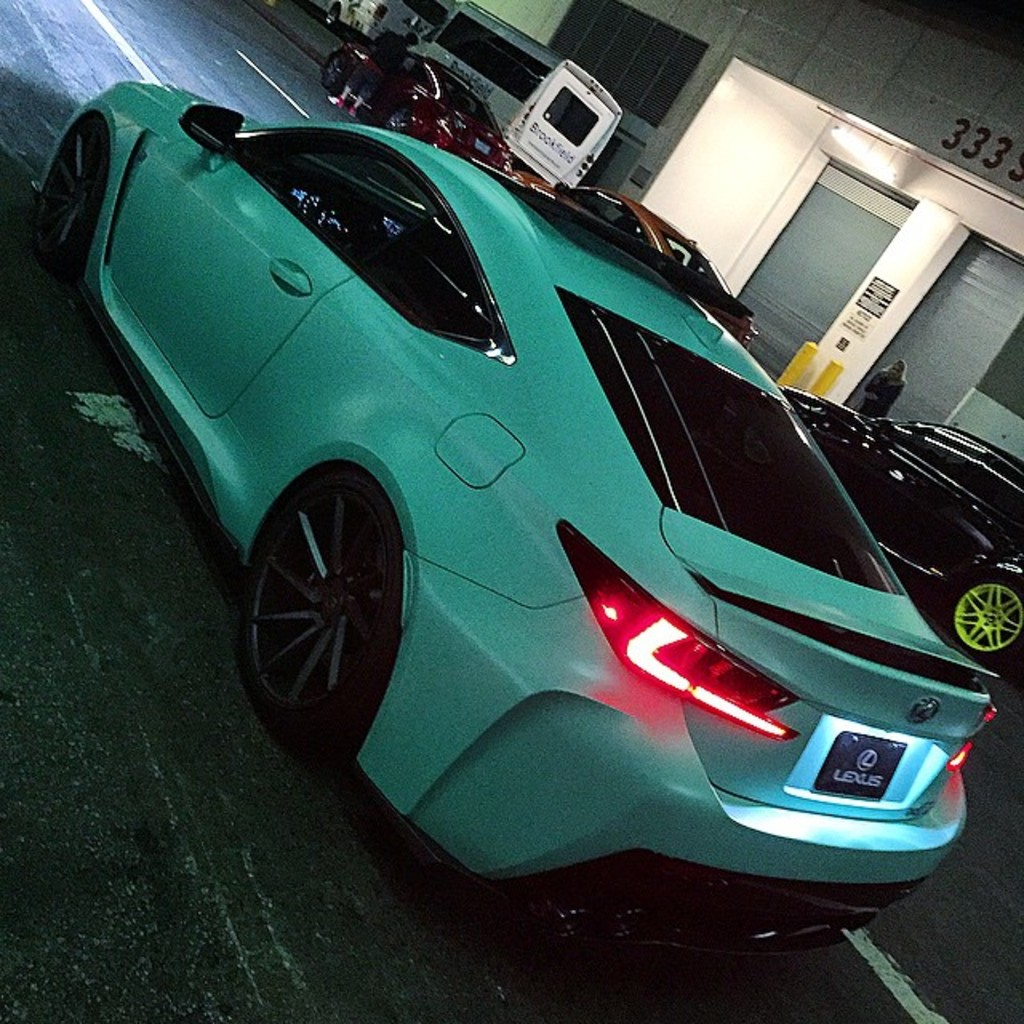Car: (48, 57, 974, 871), (779, 390, 1022, 660)
